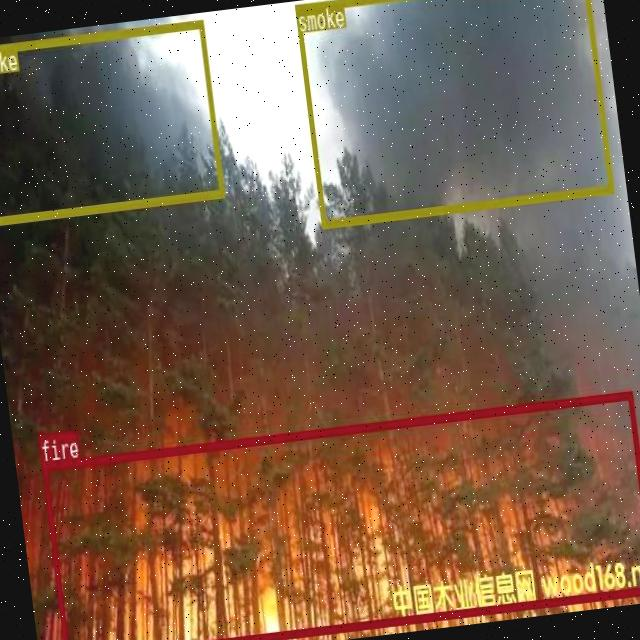fire: (41, 389, 640, 640)
smoke: (294, 0, 612, 227), (0, 17, 223, 224)
